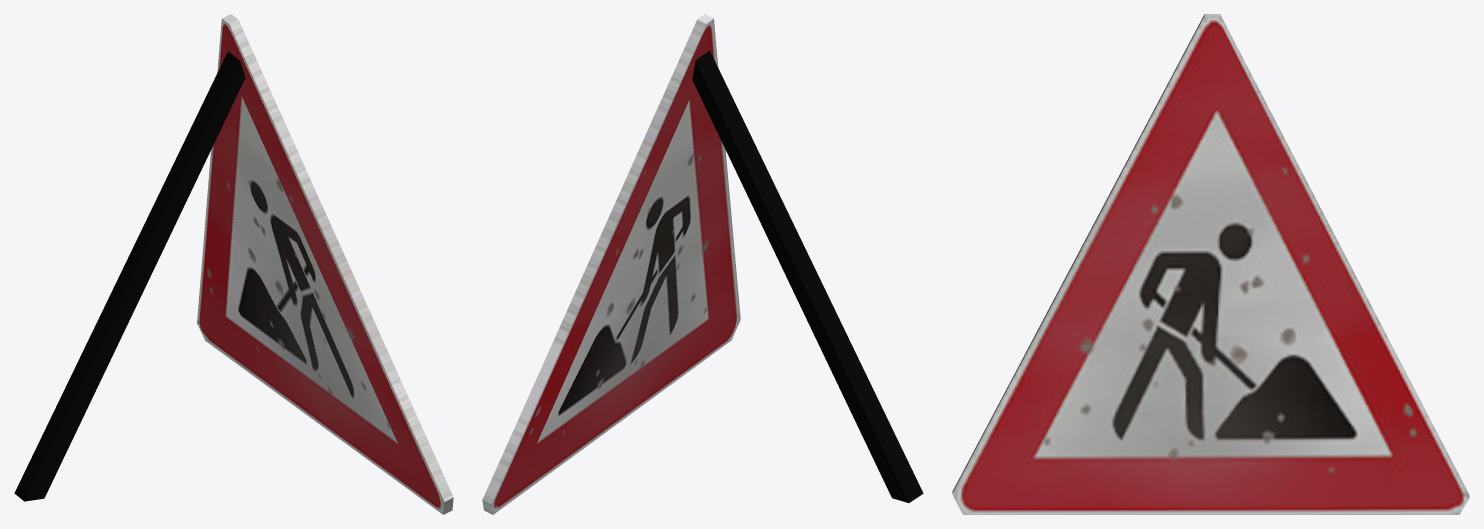
File: roadworksSign.fbx
3 renders of one model, left to right at view 1: azimuth 30°, elevation 25°; view 2: azimuth 150°, elevation 25°; view 3: azimuth 270°, elevation 25°, orthographic. The views are drawn at different scales.
Parts seen in each view (by area): view 1: Cube, Cube.001; view 2: Cube, Cube.001; view 3: Cube.
Boxes of the visible parts, x1,y1,x2,y2 form: Cube: [197, 14, 453, 514]; Cube.001: [14, 52, 245, 501]; Cube: [482, 14, 740, 514]; Cube.001: [692, 50, 923, 502]; Cube: [952, 14, 1469, 514].
Bounding box in the file's own units: 146 × 192 × 200.
